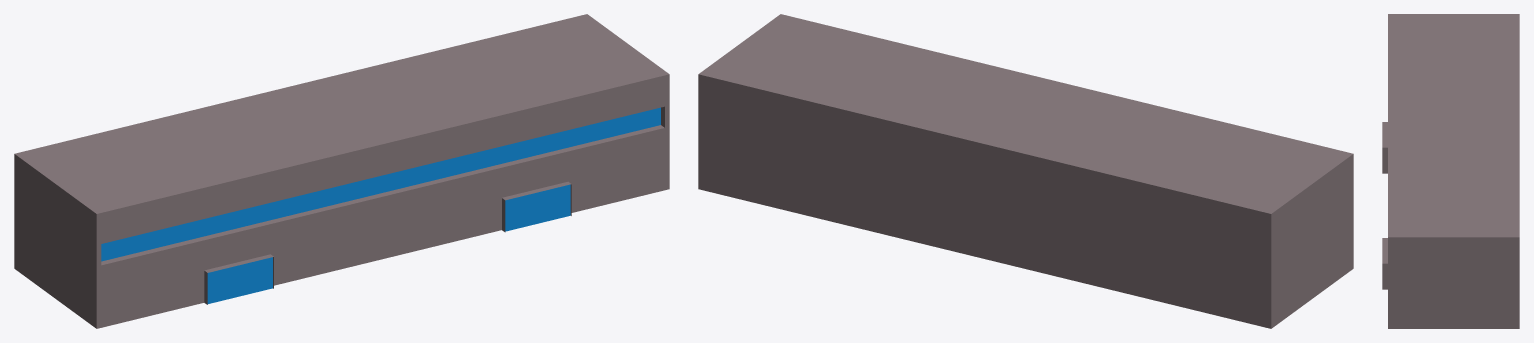
File: edifPesados.fbx
3 views of the same model, side by side, from view 1: azimuth 30°, elevation 25°; view 2: azimuth 150°, elevation 25°; view 3: azimuth 270°, elevation 25° (orthographic). The views are drawn at different scales.
Visible parts, largest first — view 1: Cube; view 2: Cube; view 3: Cube.
Part boxes in pixels (x1,y1,x2,y2): Cube: (14, 14, 669, 328); Cube: (698, 14, 1353, 328); Cube: (1382, 14, 1519, 328).
Bounding box in the file's own units: 1711 × 328 × 444.
